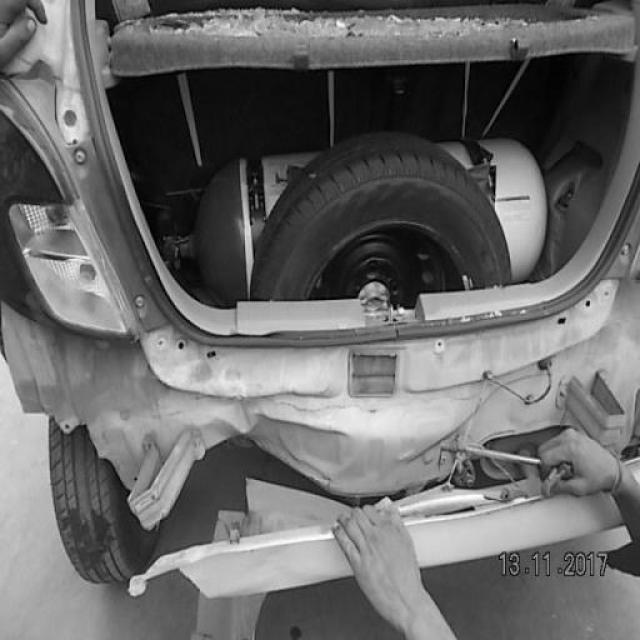crush: (2, 276, 640, 593)
